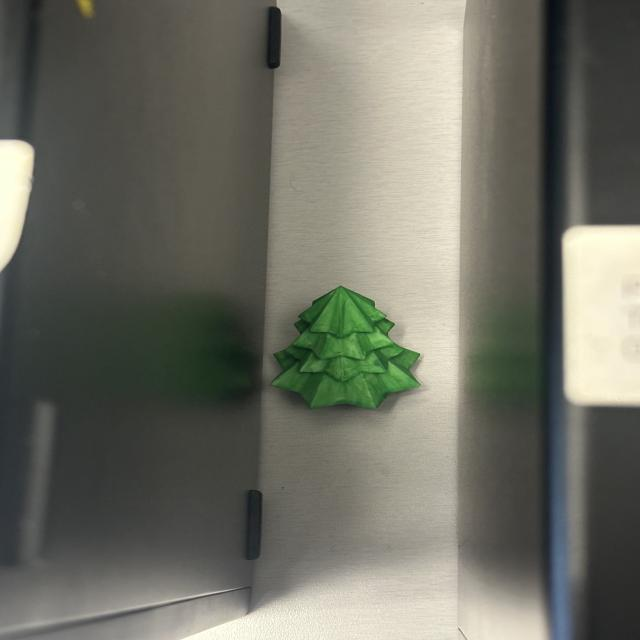tree: (267, 283, 423, 411)
